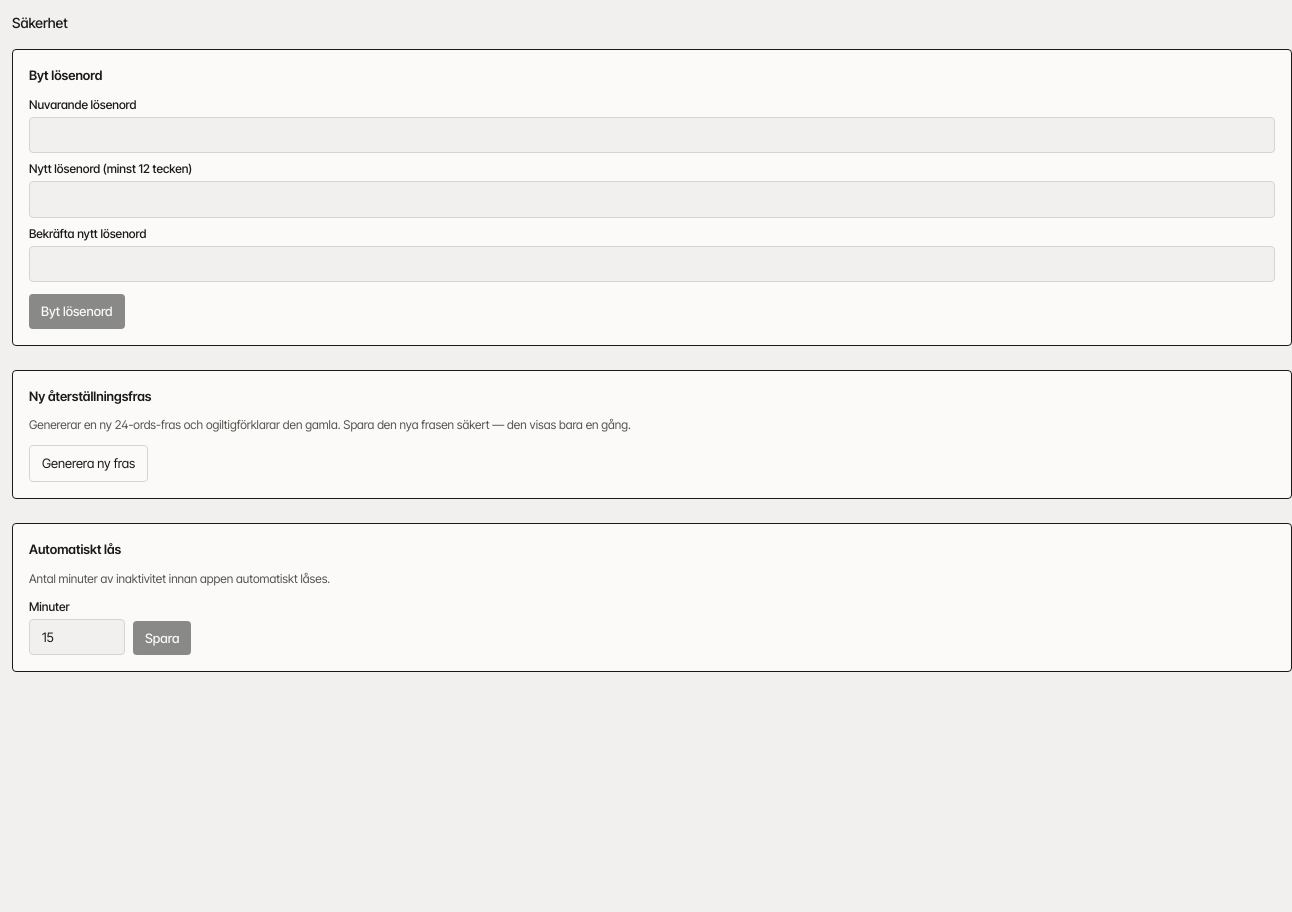
SecuritySection — change password › submits old + new password to backend
Type "old-password-12345" into the password field with test id "settings-old-password" at x=652, y=135, box [29,117,1275,153]
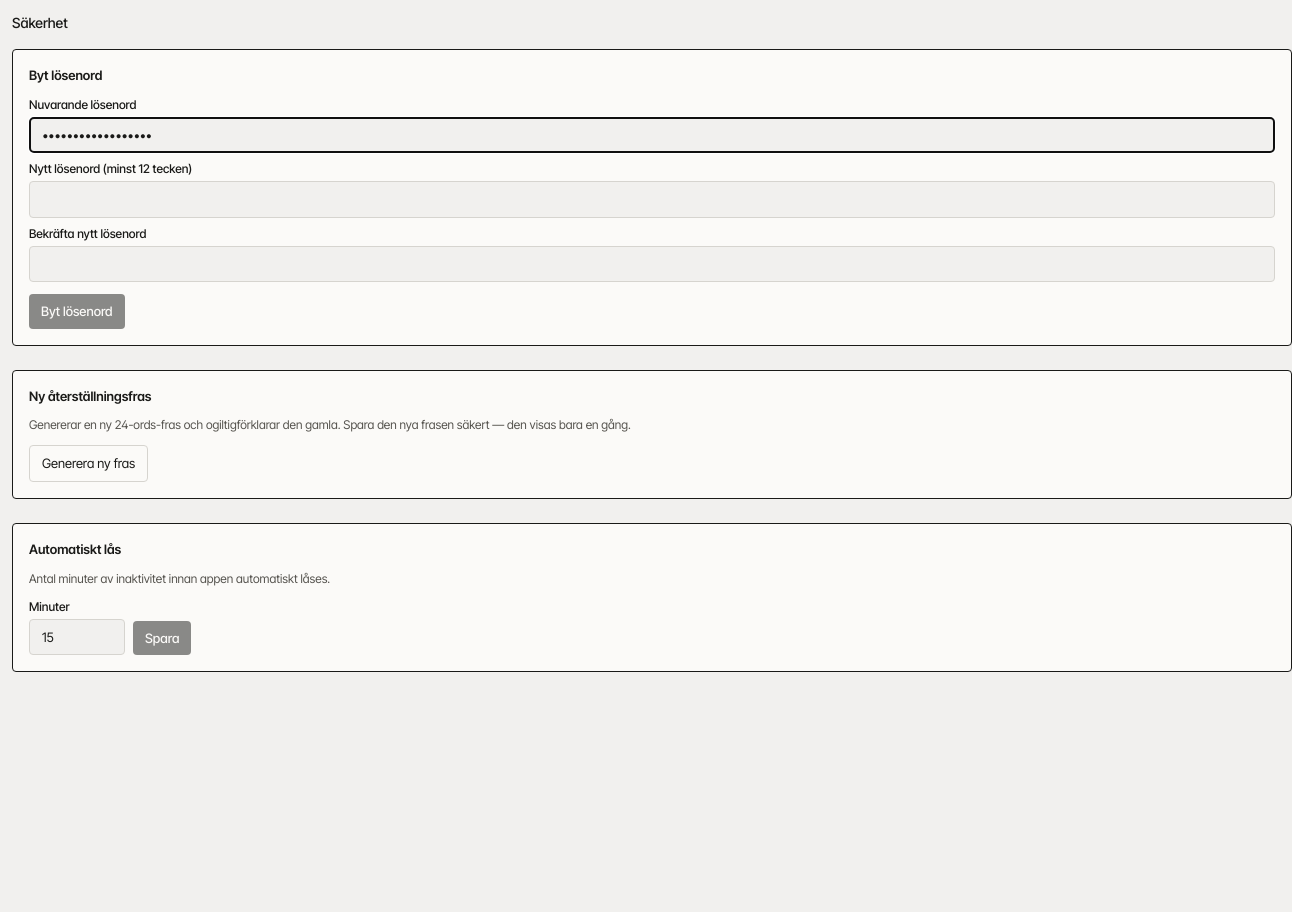
Type "new-password-67890" into the password field with test id "settings-new-password" at x=652, y=199, box [29,181,1275,218]
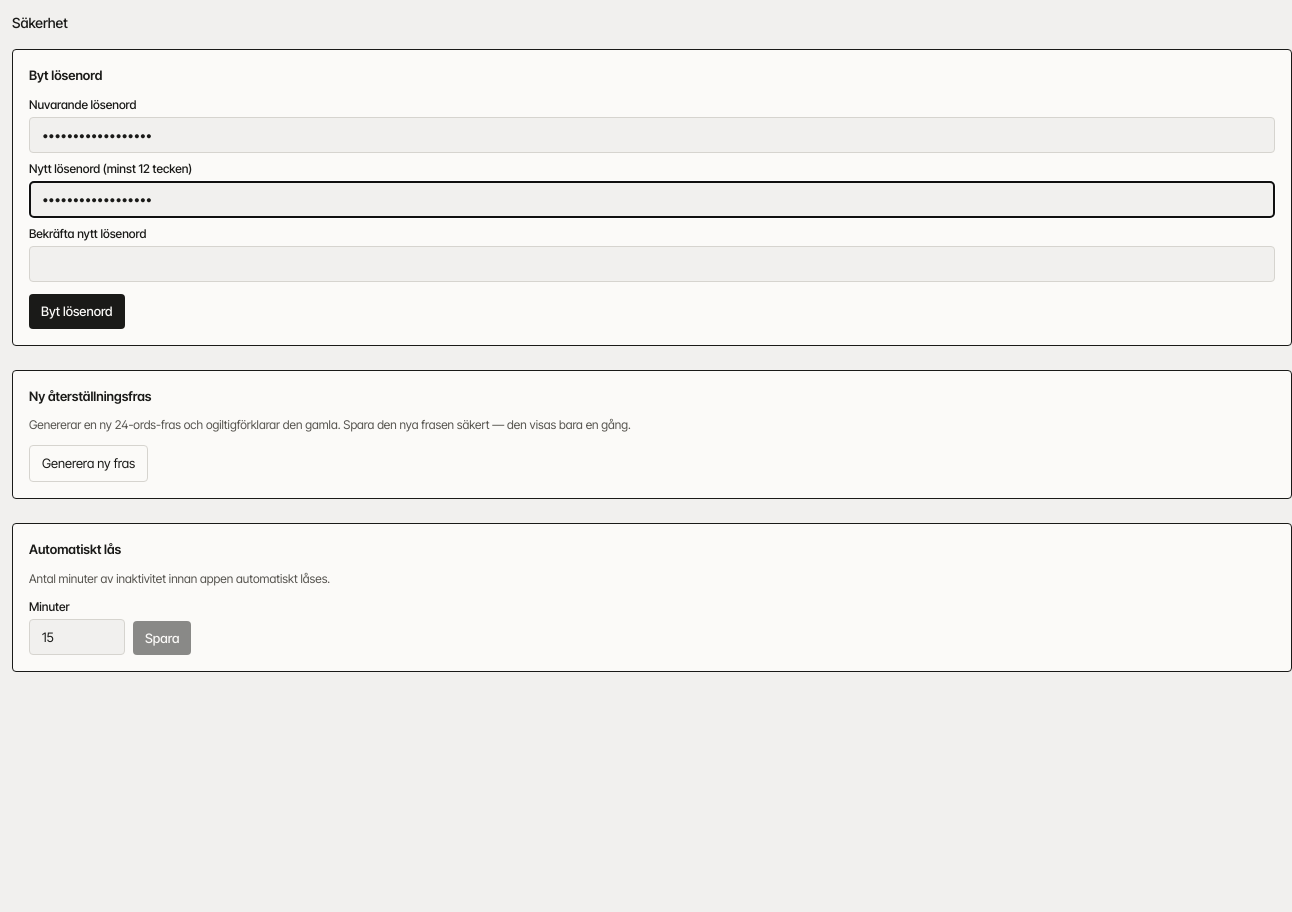
Type "new-password-67890" into the password field with test id "settings-confirm-password" at x=652, y=264, box [29,246,1275,282]
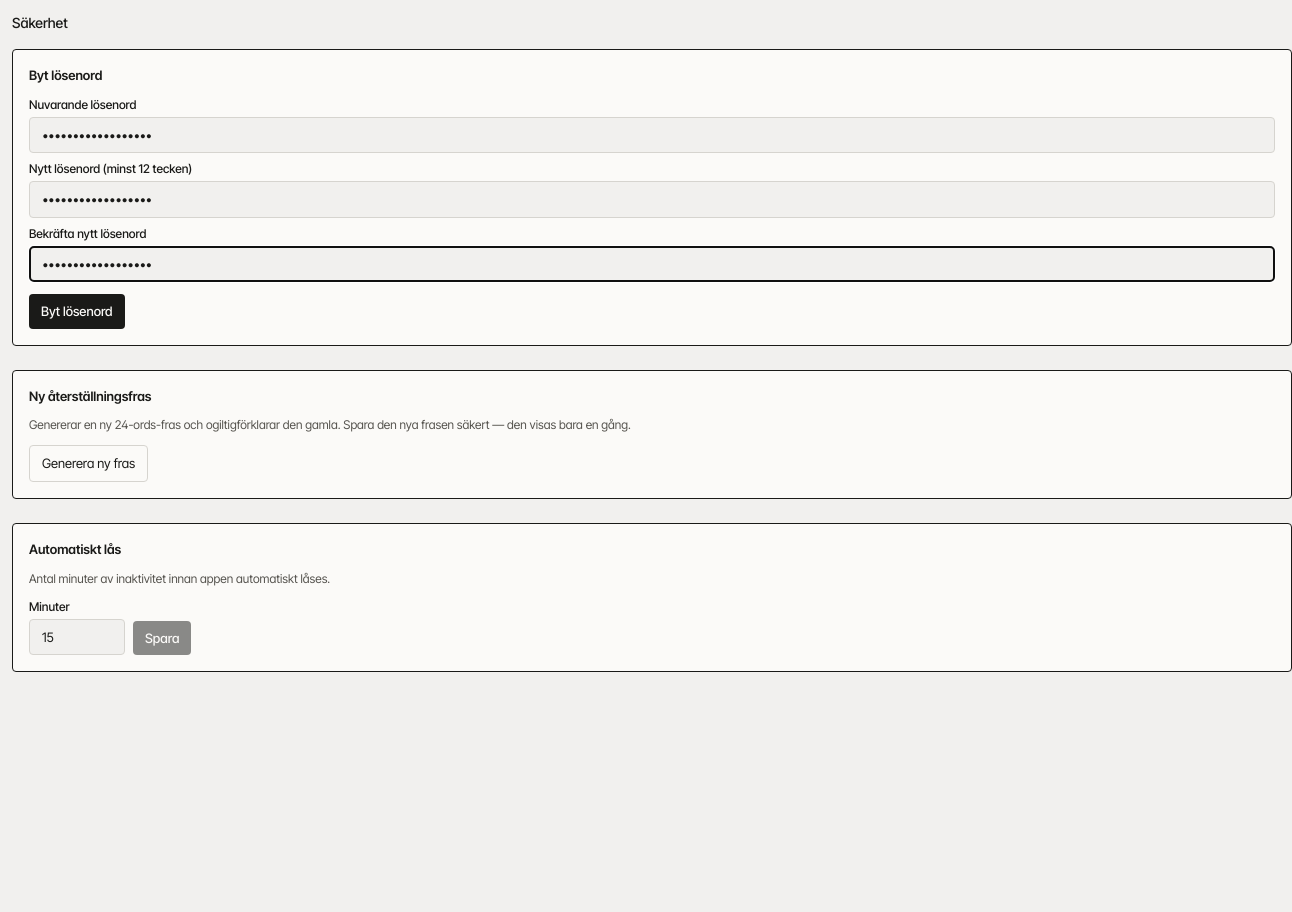
Click the button with test id "settings-change-password-submit" at x=77, y=312, box [29,294,125,329]
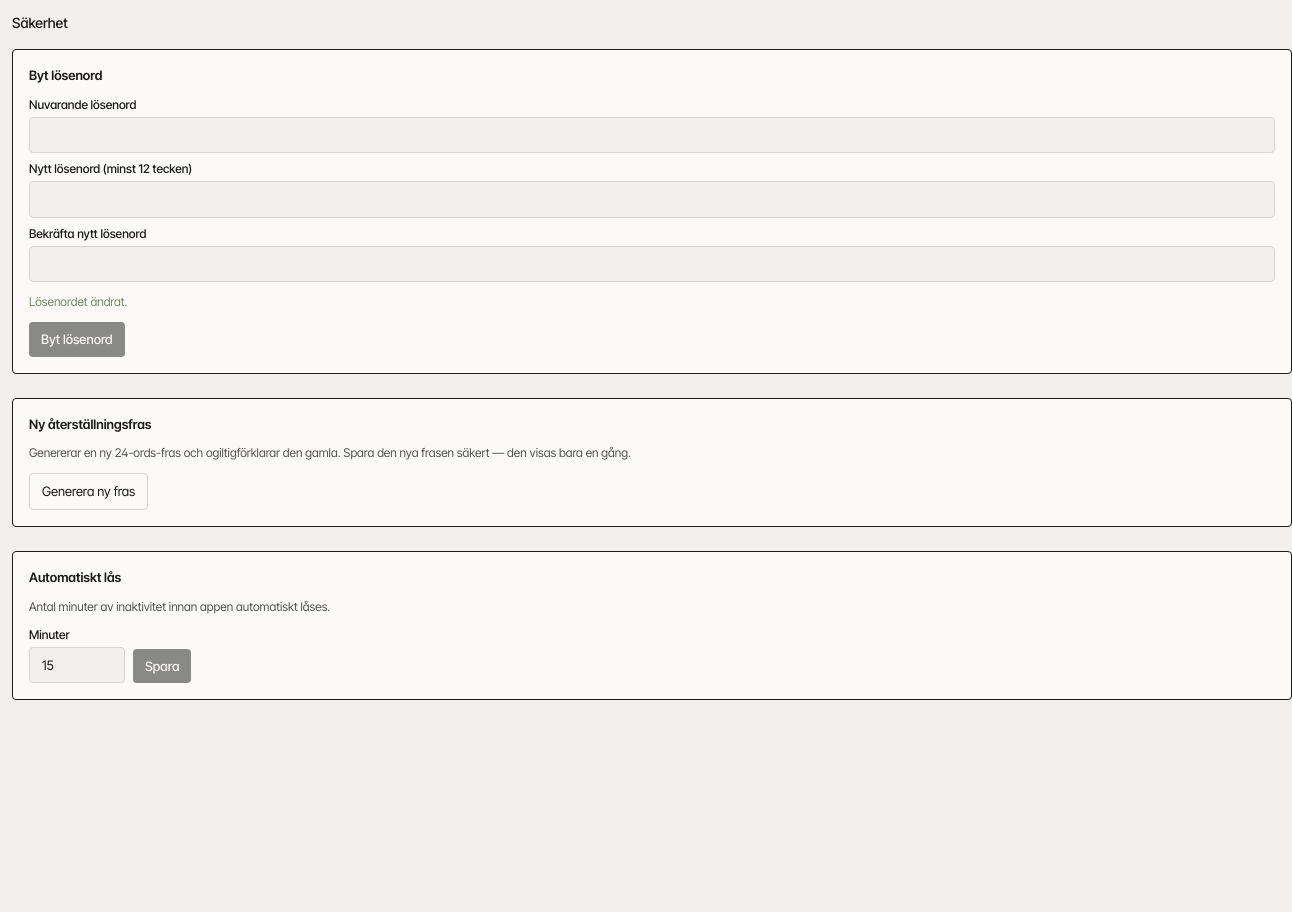
Expected: the message "Lösenordet ändrat." is shown, [29,294,128,309]
